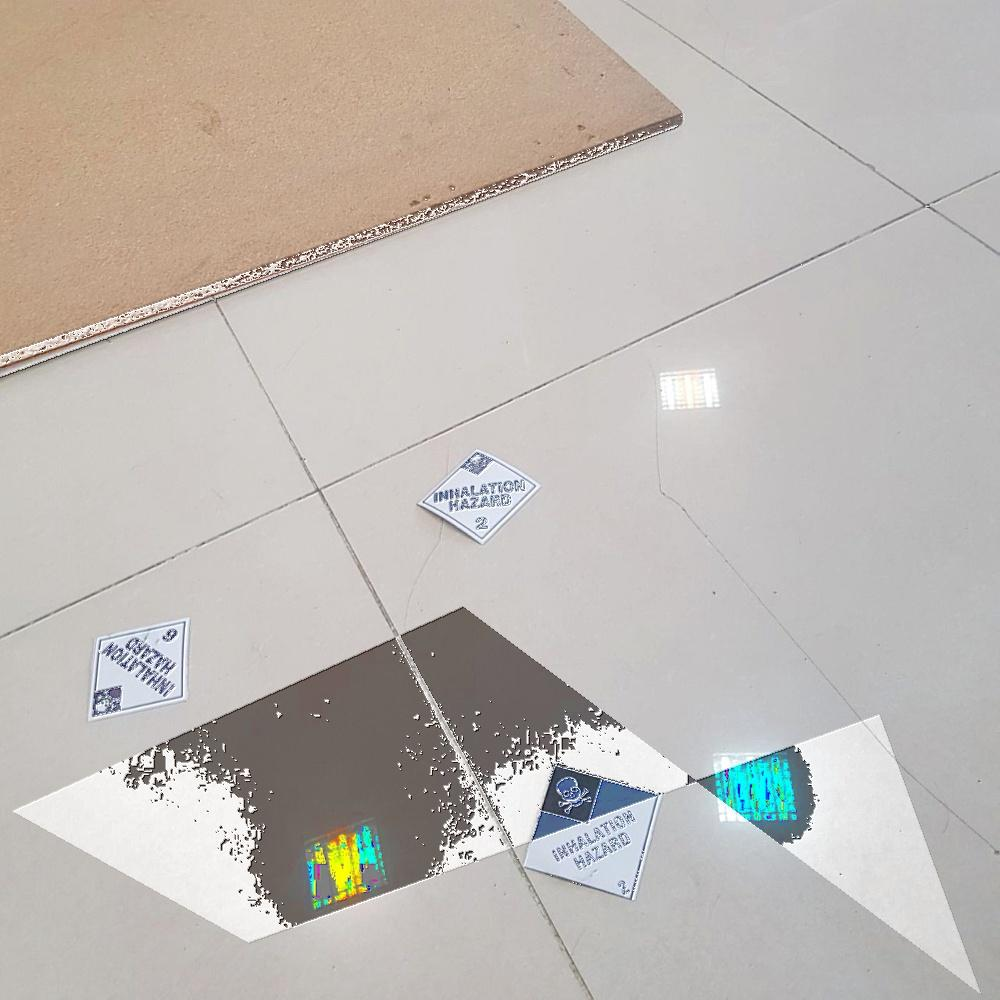poison: (524, 763, 661, 901), (418, 451, 537, 548), (92, 618, 191, 720)
